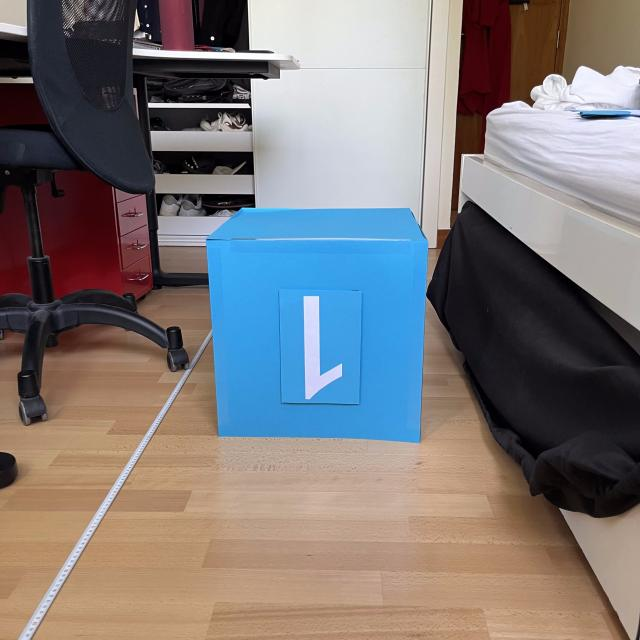box: (202, 202, 431, 446)
